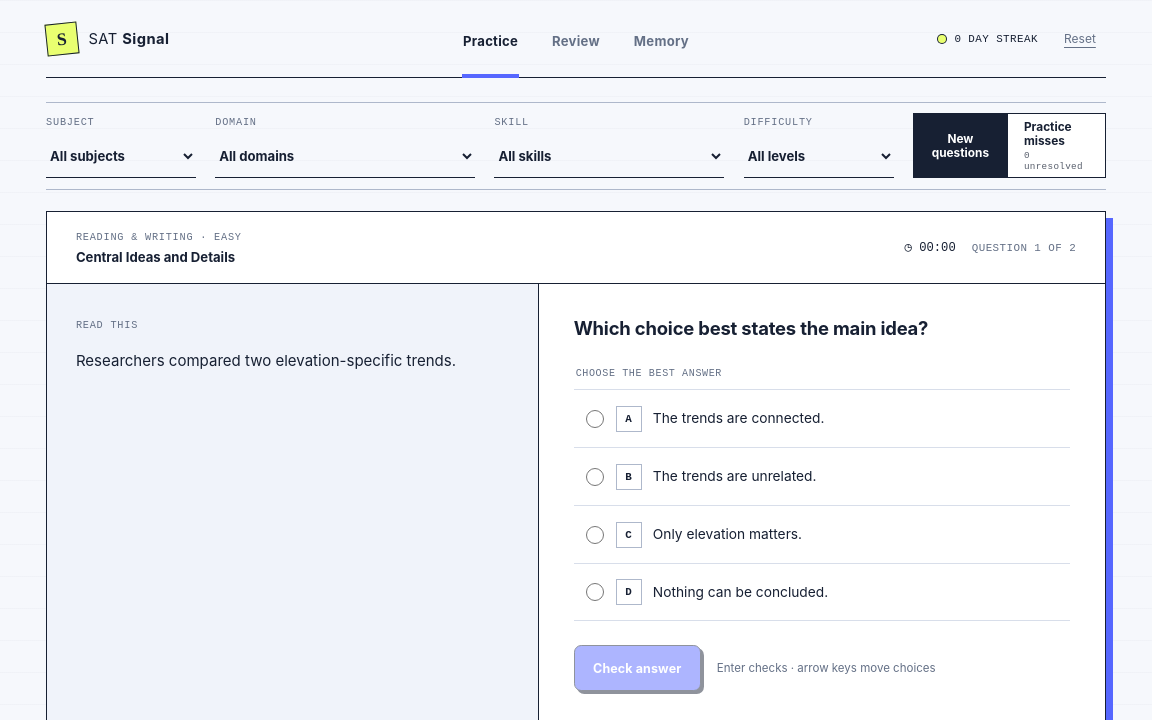
Test: SAT practice app › records one persistent miss without storing question content
The width and height of the screenshot is (1152, 720).
Expected: the heading "Which choice best states the main idea?" is shown, [574, 317, 928, 339]
Click the radio button labelled "B The trends are unrelated." at {"x": 595, "y": 477}, box [586, 468, 604, 486]
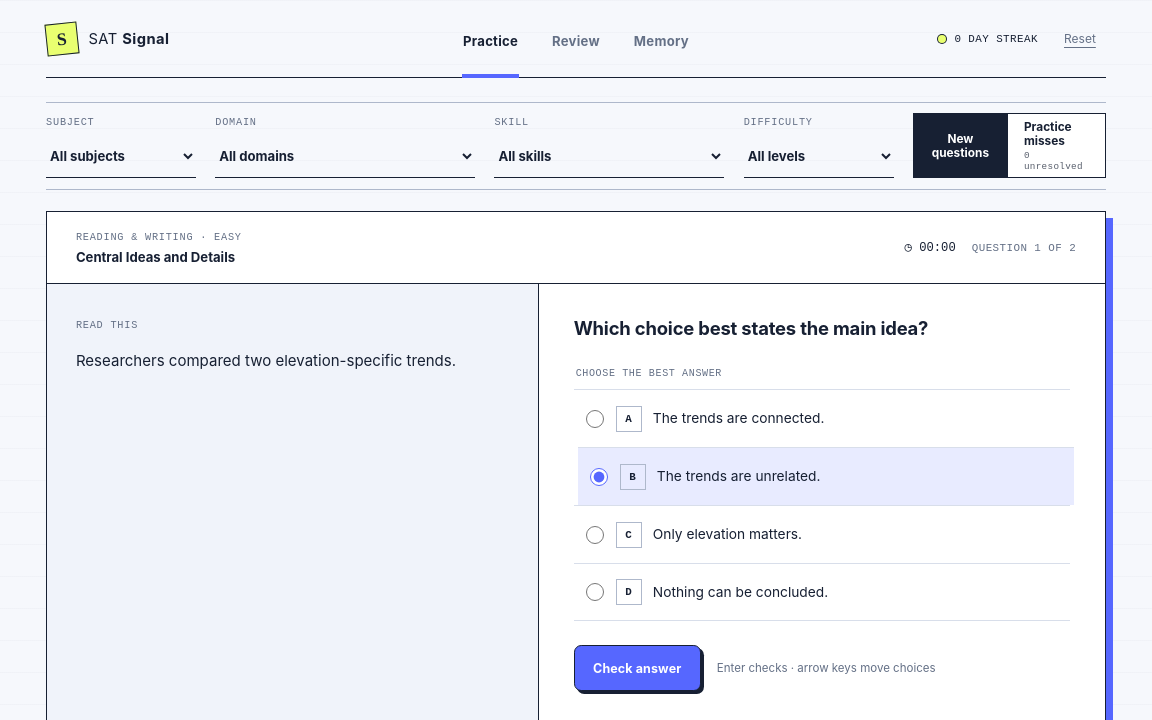
Click the button "Check answer" at {"x": 637, "y": 668}, box [574, 645, 701, 691]
(page scrolled)
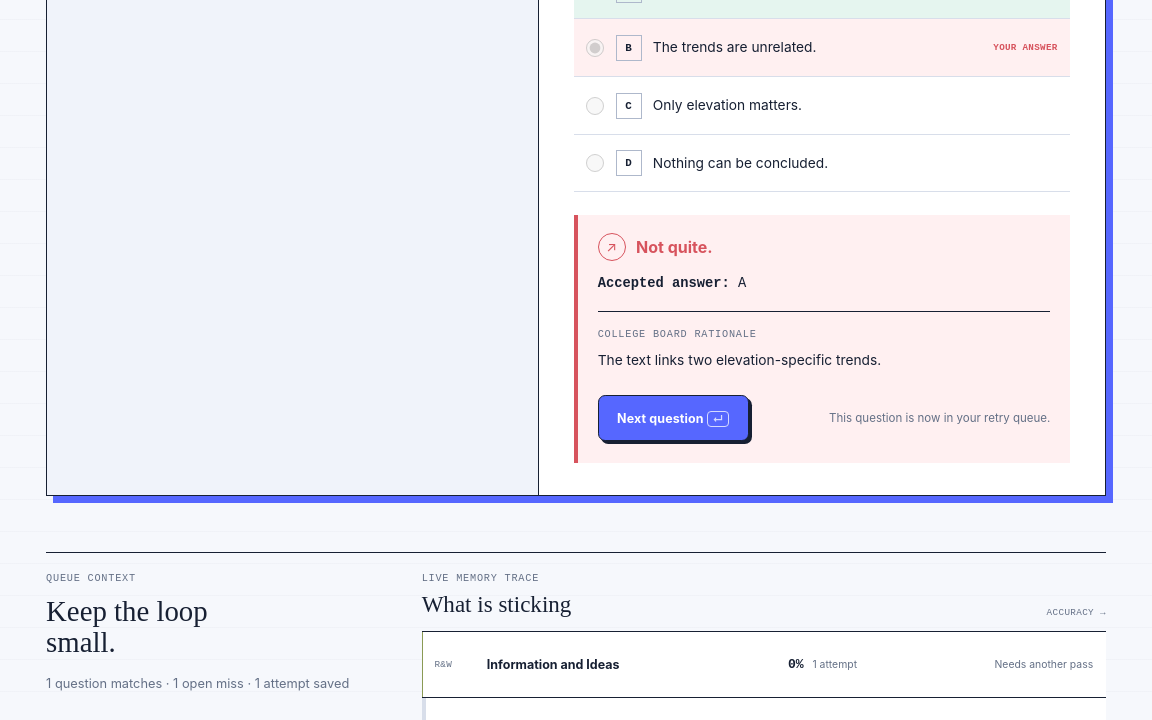
Result: the message shows "Not quite" at [636, 237, 713, 257]
Result: the text "Accepted answer:" is shown at [598, 276, 730, 291]
Result: the text "The text links two elevation-specific trends." is shown at [598, 352, 881, 368]
